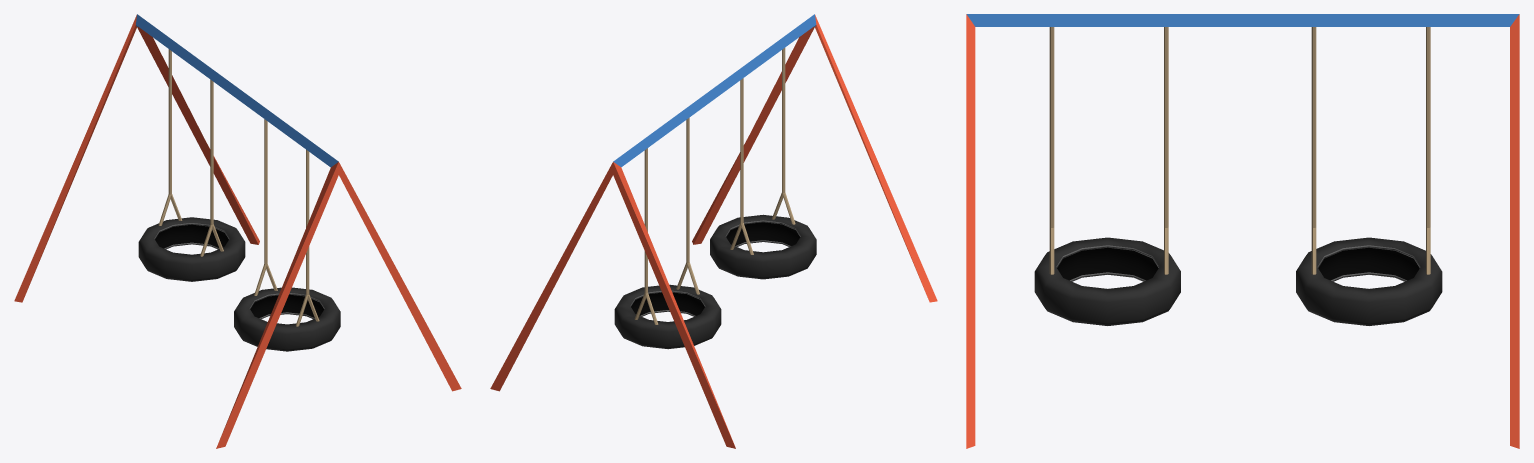
The model's file is PlaygroundHammock_01.gltf.
3 views of the same model, side by side, from view 1: azimuth 30°, elevation 25°; view 2: azimuth 150°, elevation 25°; view 3: azimuth 270°, elevation 25° (orthographic). The views are drawn at different scales.
Visible parts, largest first — view 1: PlaygroundHammock_01_glb; view 2: PlaygroundHammock_01_glb; view 3: PlaygroundHammock_01_glb.
Boxes of the visible parts, box(x1,y1,x2,y2) form: PlaygroundHammock_01_glb: box(14, 14, 461, 448); PlaygroundHammock_01_glb: box(490, 14, 937, 448); PlaygroundHammock_01_glb: box(966, 14, 1519, 448).
Size of what is drawn, in the model's own units: 2.49 by 2.49 by 3.54.
Materials: 1 (1 with a texture image).
